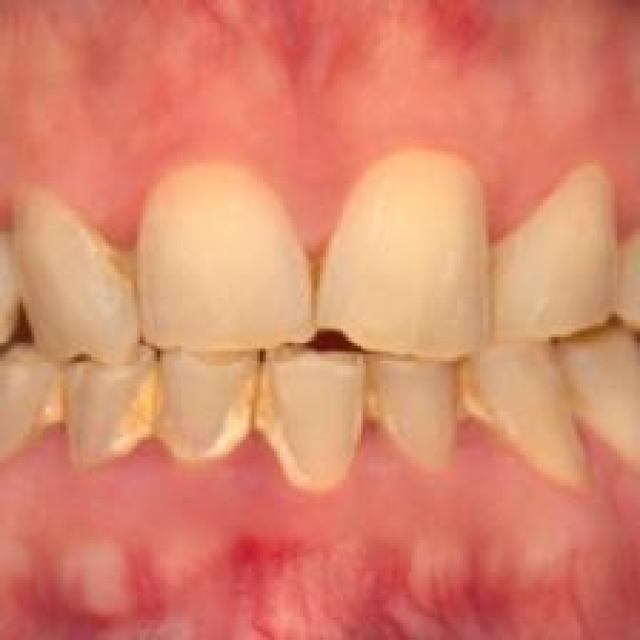cavity: (214, 372, 274, 448), (117, 368, 166, 446), (97, 237, 152, 303), (346, 360, 394, 429), (446, 354, 491, 423), (300, 234, 334, 297), (37, 372, 69, 428)
